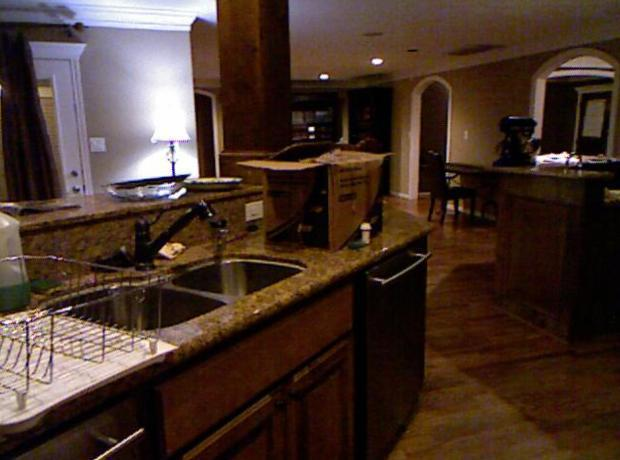Lavaplatos: (52, 196, 306, 355)
